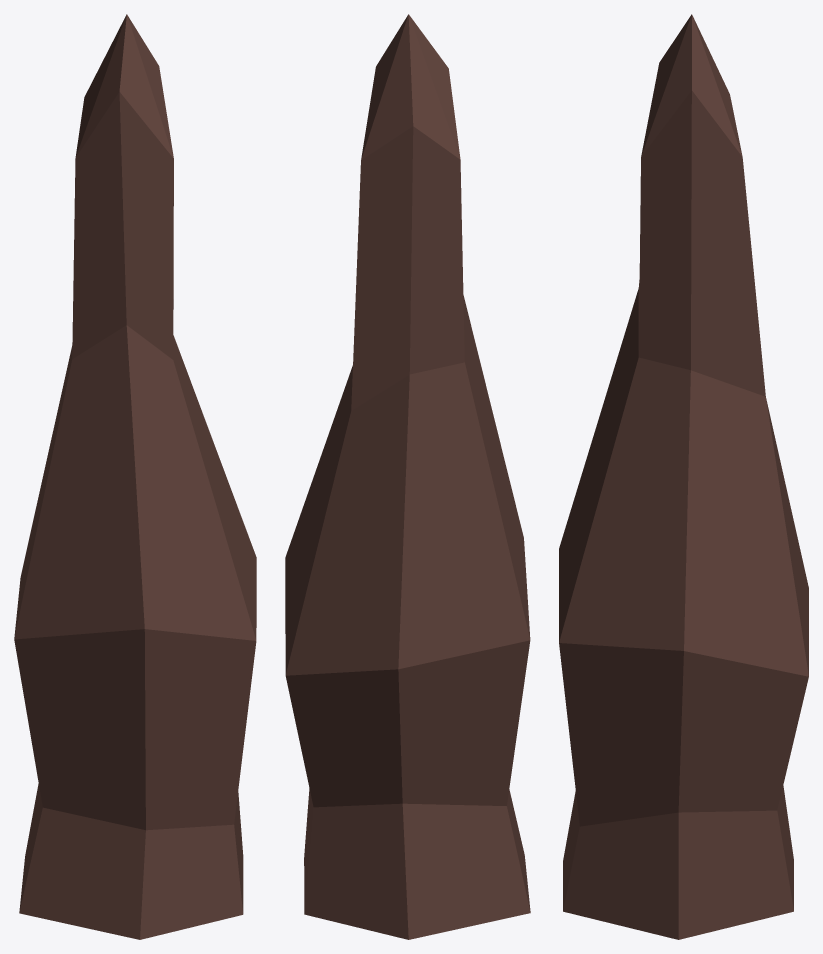
File: Stalagmite-C06.fbx
The picture shows the model from 3 angles, left to right: view 1: azimuth 30°, elevation 25°; view 2: azimuth 150°, elevation 25°; view 3: azimuth 270°, elevation 25°; orthographic projection.
Visible parts, largest first — view 1: Stalagmite-C06; view 2: Stalagmite-C06; view 3: Stalagmite-C06.
Boxes of the visible parts, x1,y1,x2,y2 form: Stalagmite-C06: [14, 14, 256, 939]; Stalagmite-C06: [285, 14, 530, 939]; Stalagmite-C06: [559, 14, 808, 939].
Size of the model in its own units: 66.76 by 228 by 59.23.
